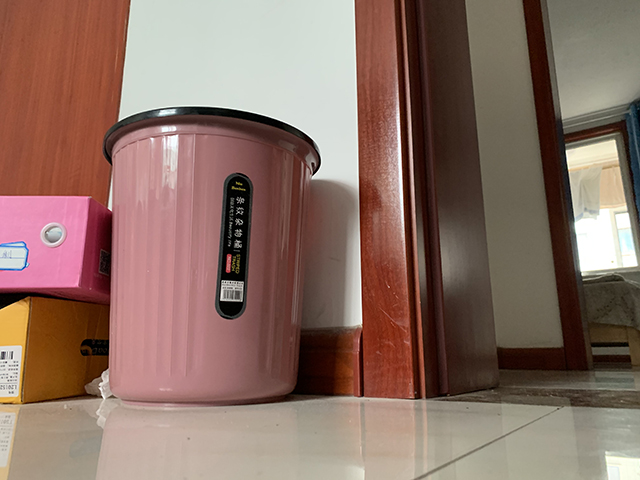trashcan: (101, 105, 323, 409)
